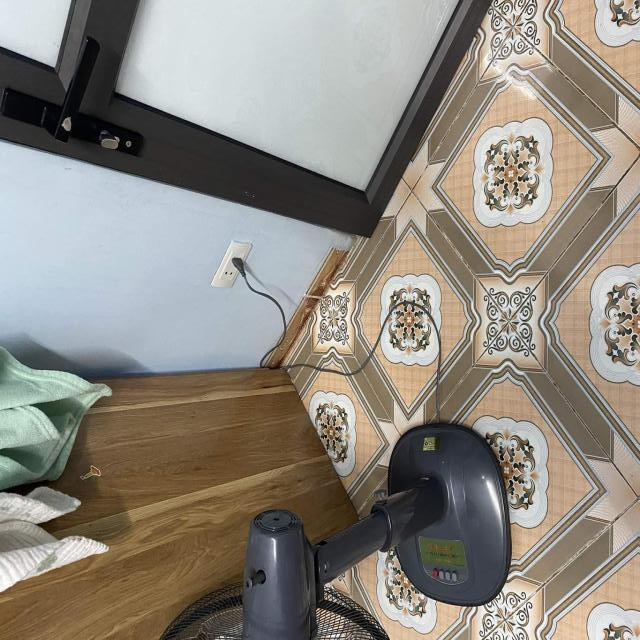outlet: (211, 240, 252, 289)
